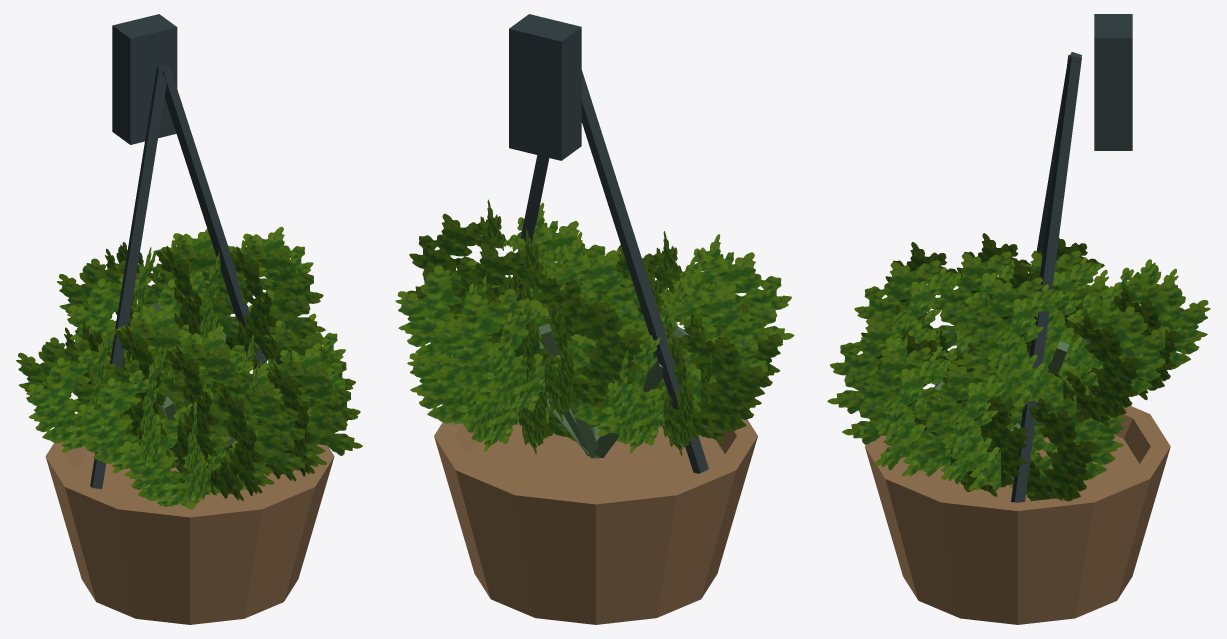
3 renders of one model, left to right at view 1: azimuth 30°, elevation 25°; view 2: azimuth 150°, elevation 25°; view 3: azimuth 270°, elevation 25°, orthographic. The views are drawn at different scales.
Parts seen in each view (by area): view 1: a07; view 2: a07; view 3: a07.
Part boxes in pixels (box(x1,y1,x2,y2)): a07: box(16, 14, 362, 624); a07: box(395, 14, 794, 624); a07: box(827, 14, 1210, 624).
Size of the model in its own units: 0.4072 by 0.635 by 0.4053.
Materials: 2 (1 with a texture image).
